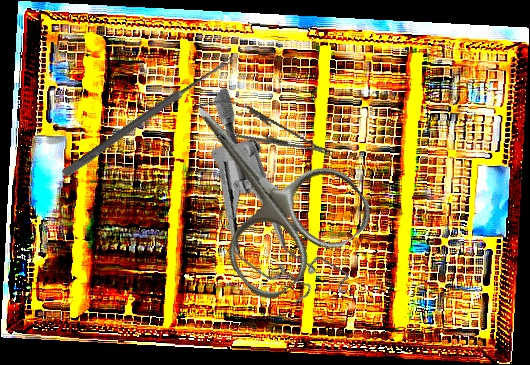Iris Scissors: (143, 62, 380, 308)
Needle Holder: (190, 89, 340, 171)
Speculum: (142, 83, 403, 327)
Surgical Spoon: (61, 53, 236, 179)
